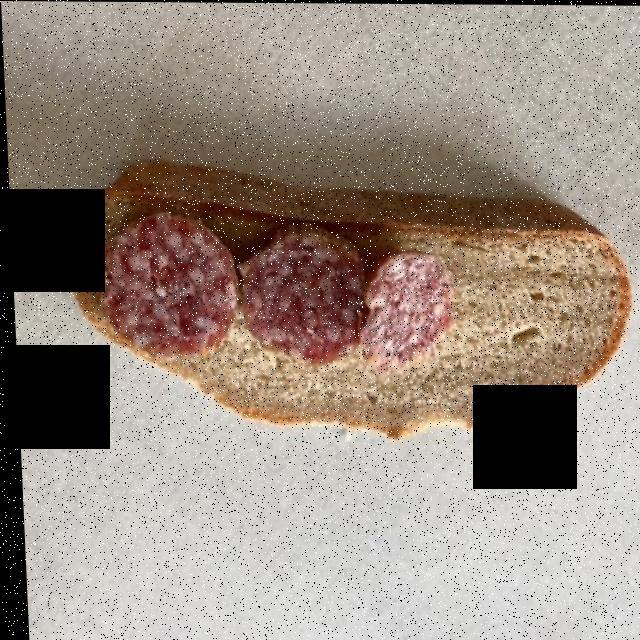salami: (106, 212, 458, 375)
